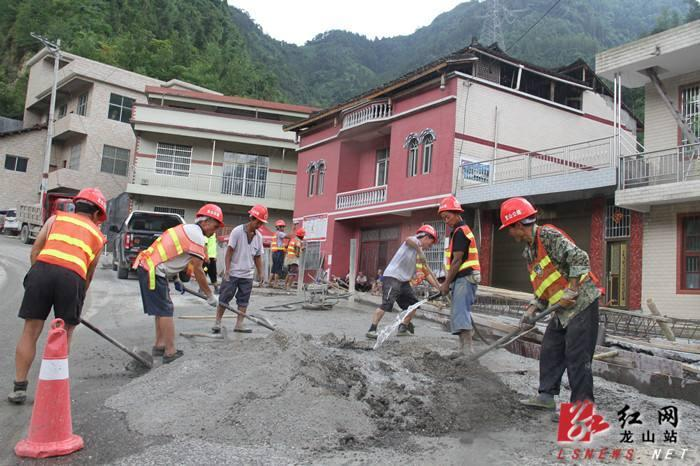helmet: (498, 197, 538, 226), (75, 184, 111, 216), (245, 204, 281, 226), (198, 198, 225, 225), (438, 195, 462, 212)
person: (495, 197, 606, 403), (129, 200, 228, 362), (12, 174, 109, 323), (435, 190, 487, 350), (373, 223, 441, 344), (219, 205, 276, 335)
